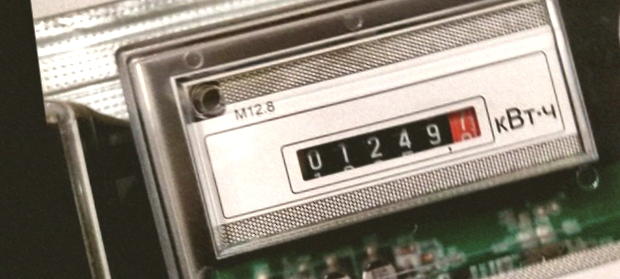0: (301, 144, 323, 172)
1: (333, 139, 351, 166)
2: (362, 133, 385, 161)
4: (393, 123, 414, 152)
7: (451, 108, 469, 133)
9: (422, 119, 443, 146)
screen: (270, 95, 511, 199)
